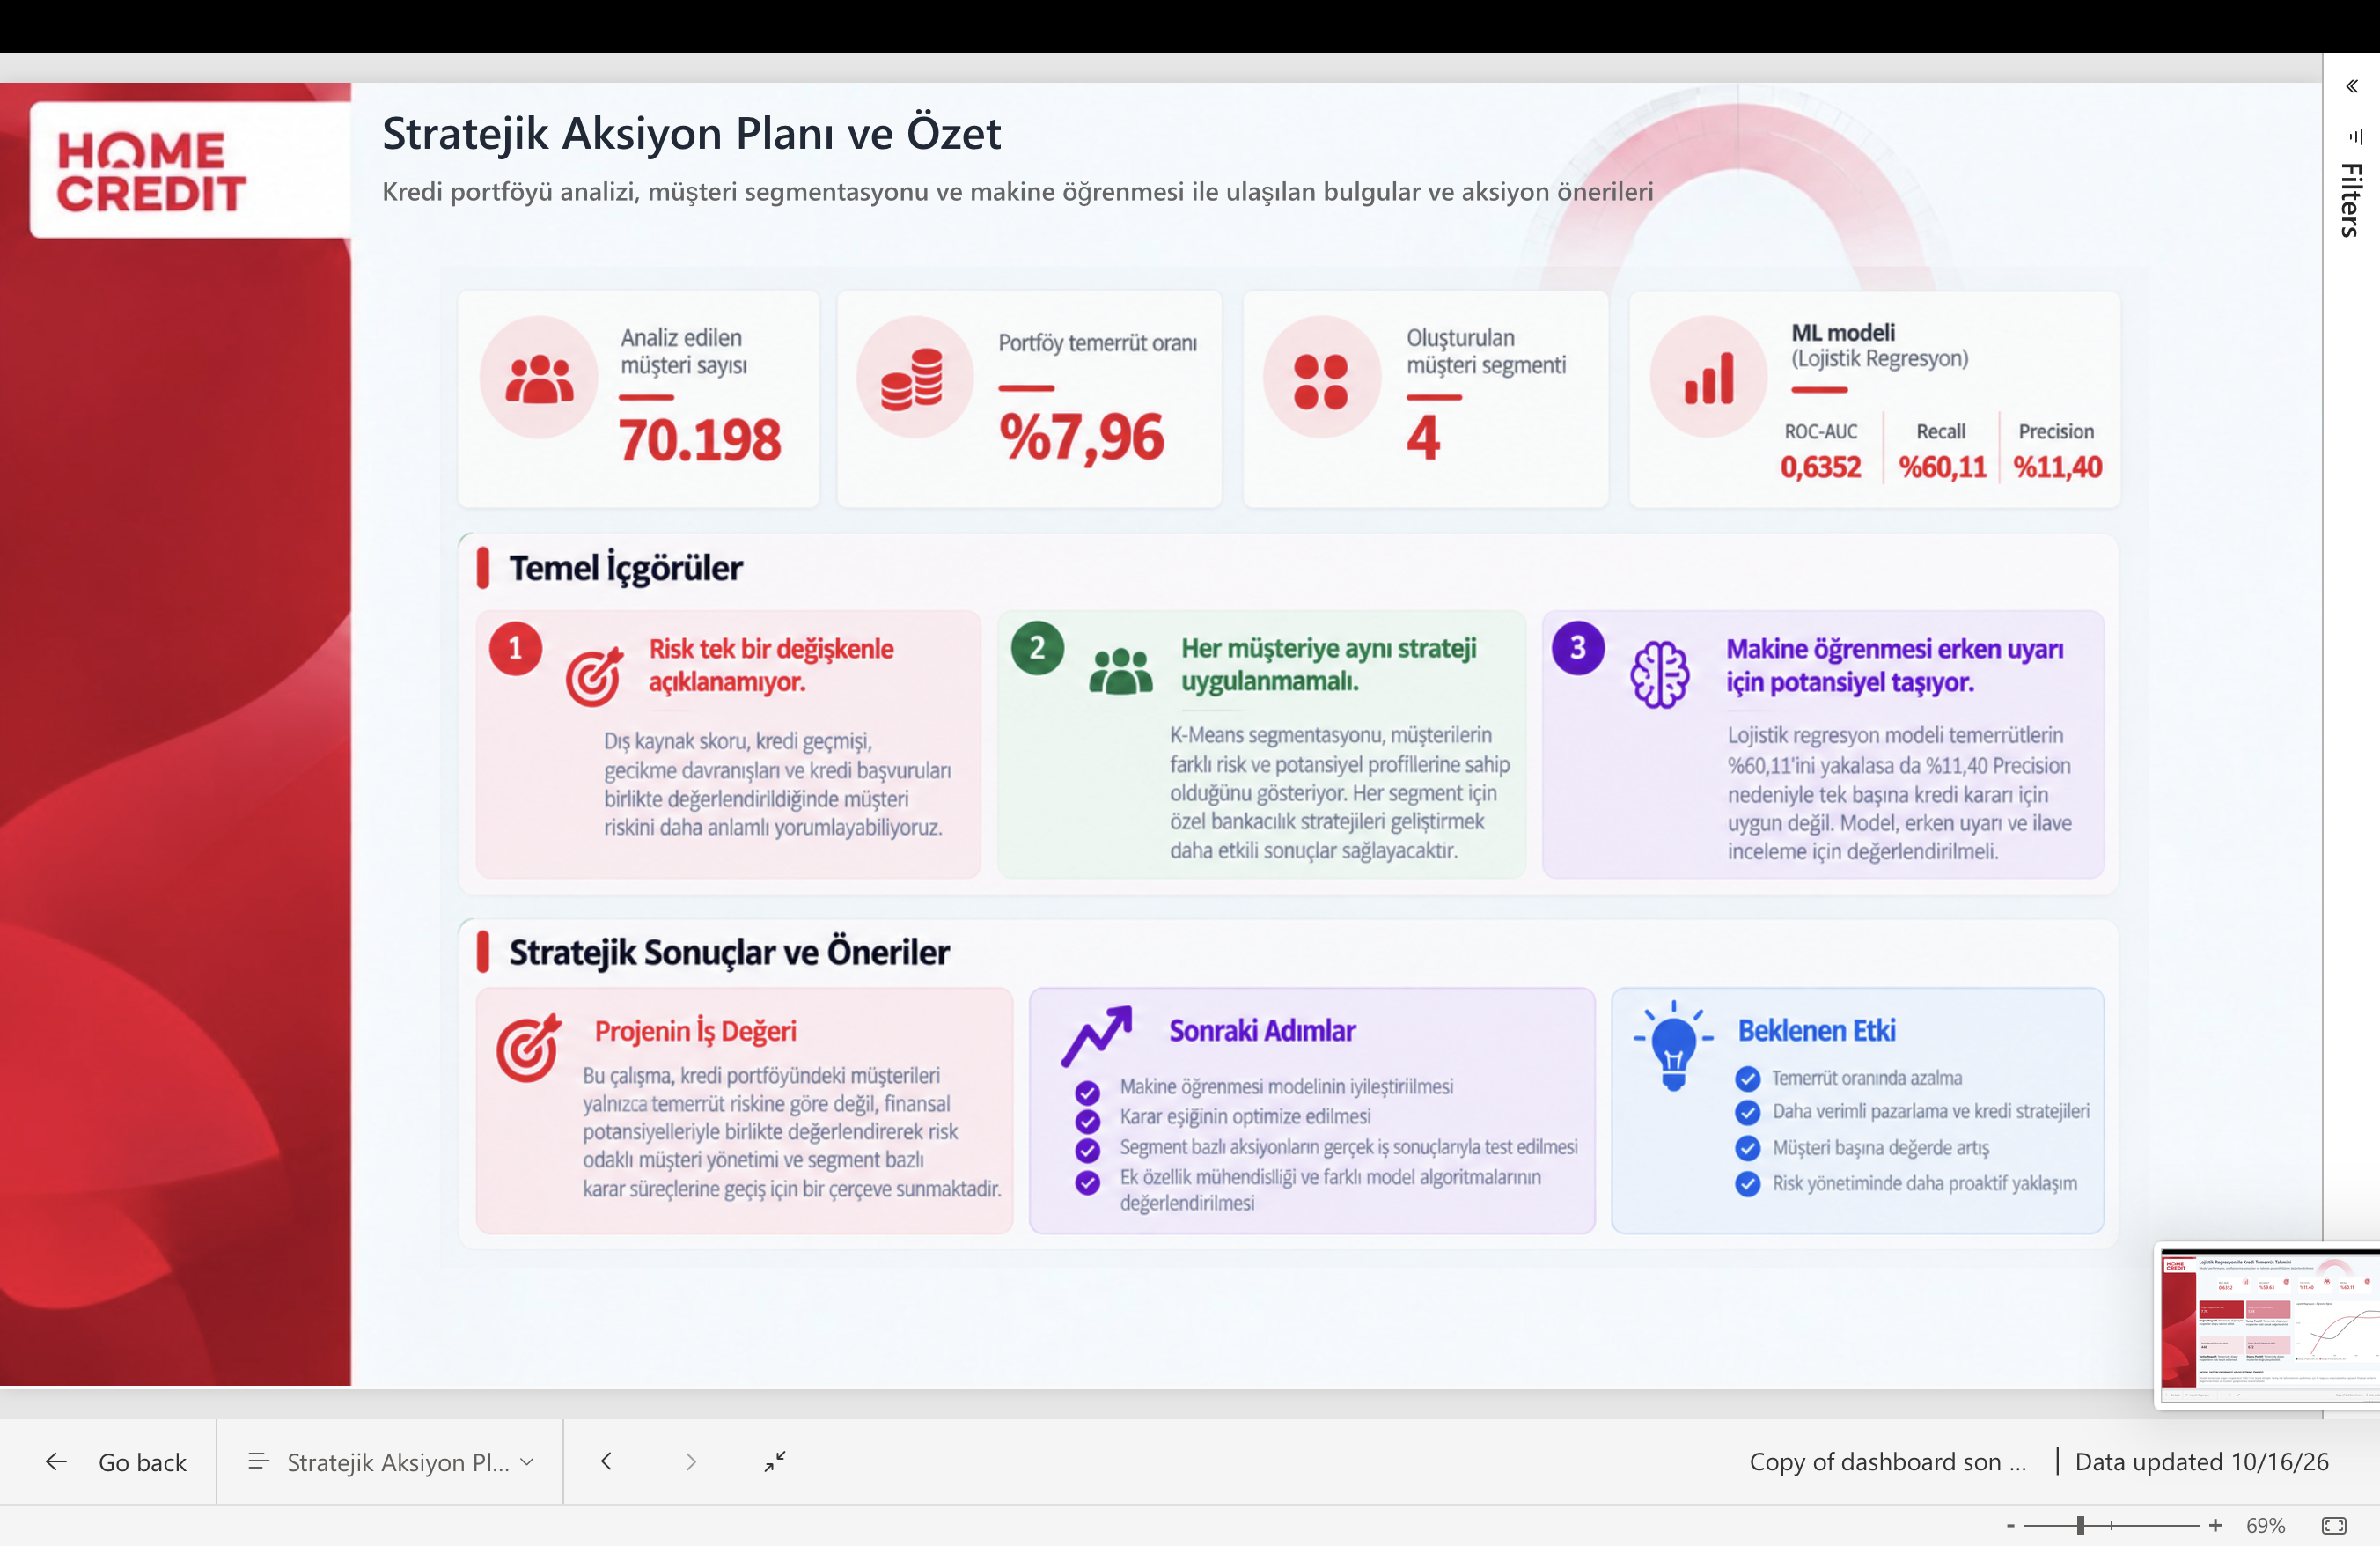

This screenshot's page, from the dashboard's own definition file:
{"tool":"powerbi","page":{"name":"Stratejik Aksiyon Planı ve Özet","canvas":[1920,1080],"ordinal":6},"visuals":[{"type":"textbox","box":[315.7,14.3,877.1,71.4],"z":0},{"type":"textbox","box":[315.7,74.3,1274.5,51],"z":1},{"type":"image","box":[364.3,74.3,1412.9,982.9],"z":2}]}

Visuals, with their boxes on the page's 1920x1080 design canvas (x1, y1, x2, y2). These are canvas units, not pixel positions in the 2380x1546 screenshot, which may show the page scaled, cropped or inside an application window:
textbox: rect(316, 14, 1193, 86)
textbox: rect(316, 74, 1590, 125)
image: rect(364, 74, 1777, 1057)
